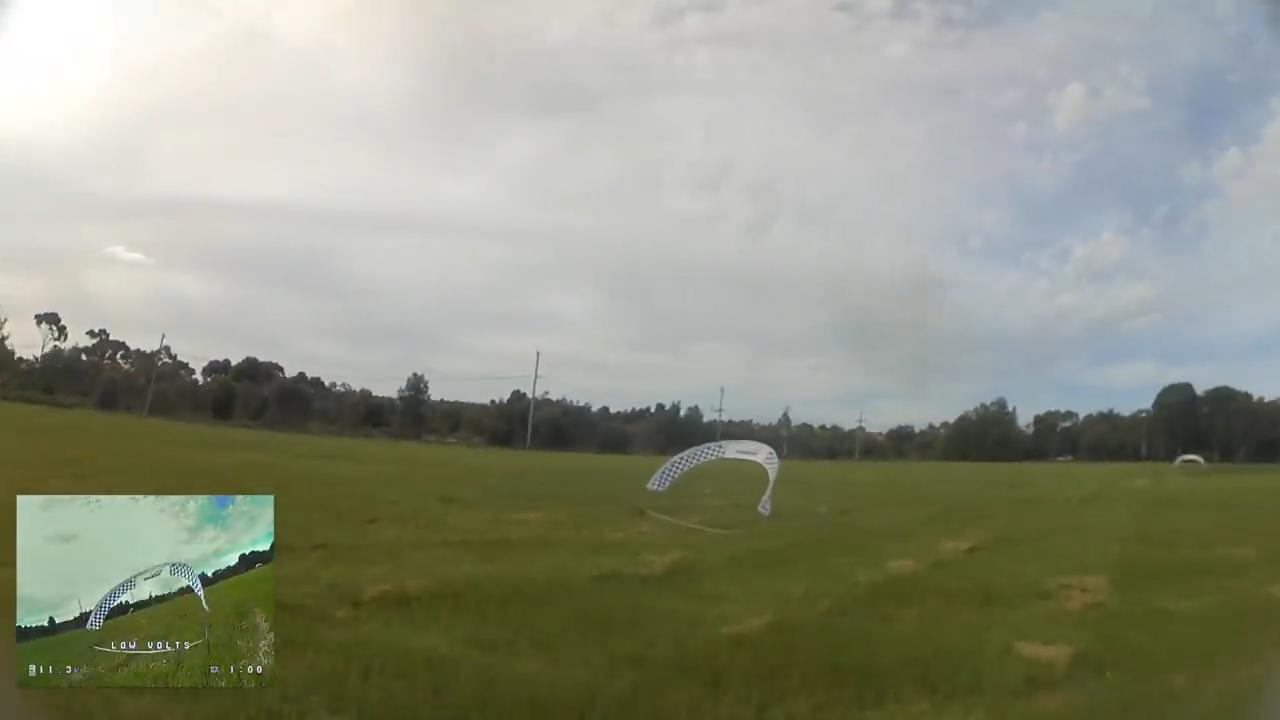gate: (641, 436, 784, 522)
